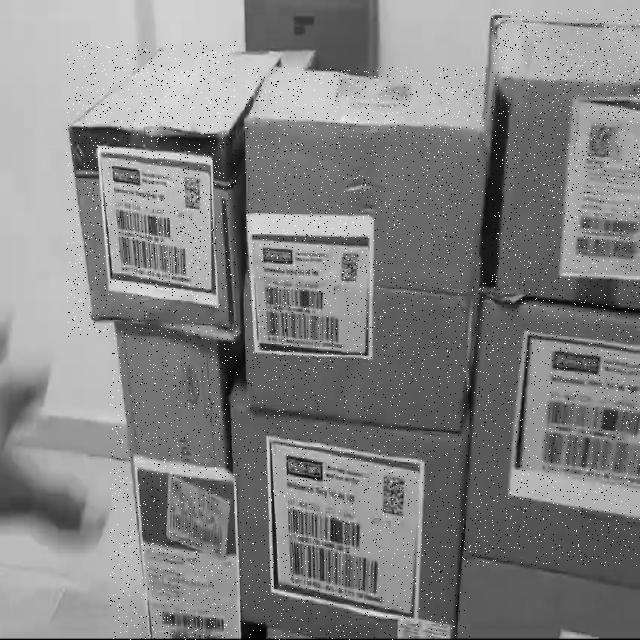BoxFace: (245, 67, 488, 429), (228, 382, 470, 640), (66, 41, 236, 337), (464, 289, 640, 566), (491, 9, 640, 316), (110, 324, 239, 640)
